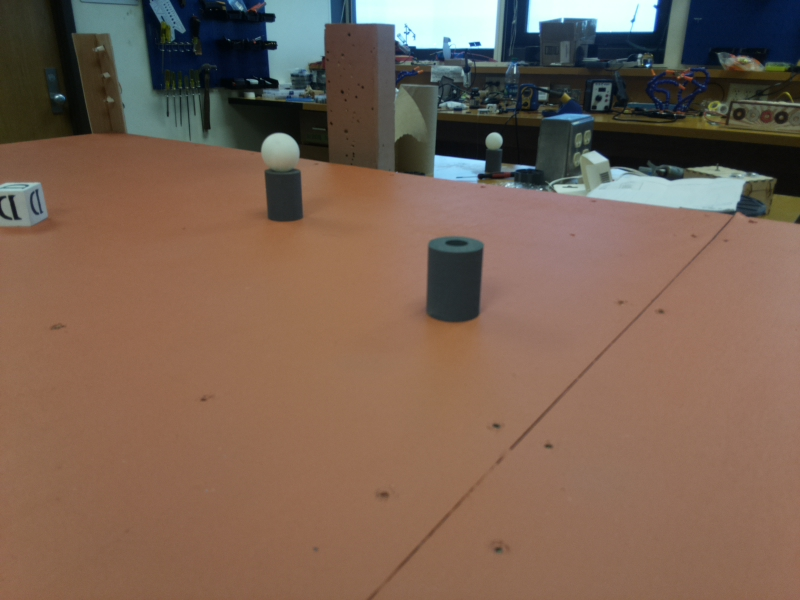blockD: (1, 179, 45, 231)
corner: (80, 34, 119, 136)
obstacle: (427, 233, 491, 319), (257, 131, 303, 223)
